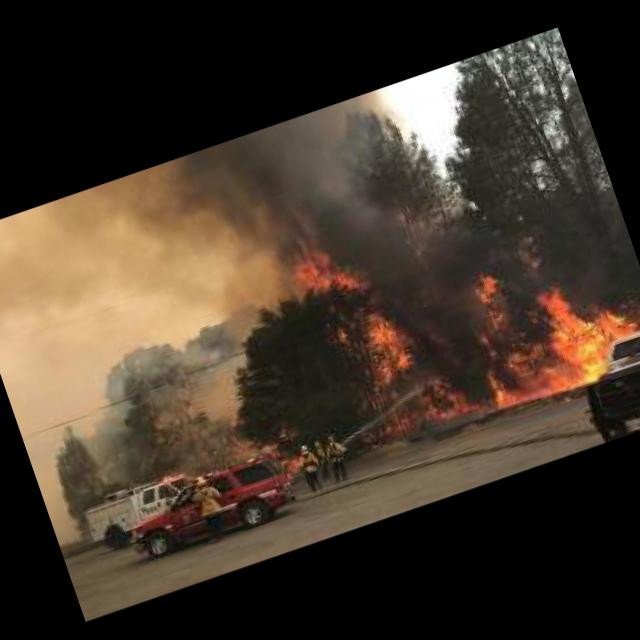fire: (333, 259, 640, 453), (276, 196, 356, 302)
smoke: (0, 85, 415, 335), (297, 71, 503, 376)
